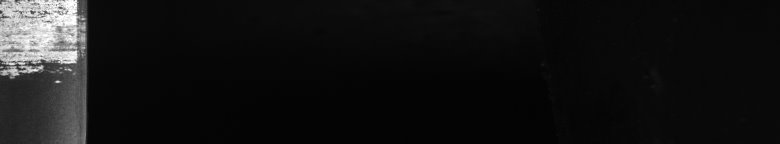kb: (4, 4, 76, 84)
